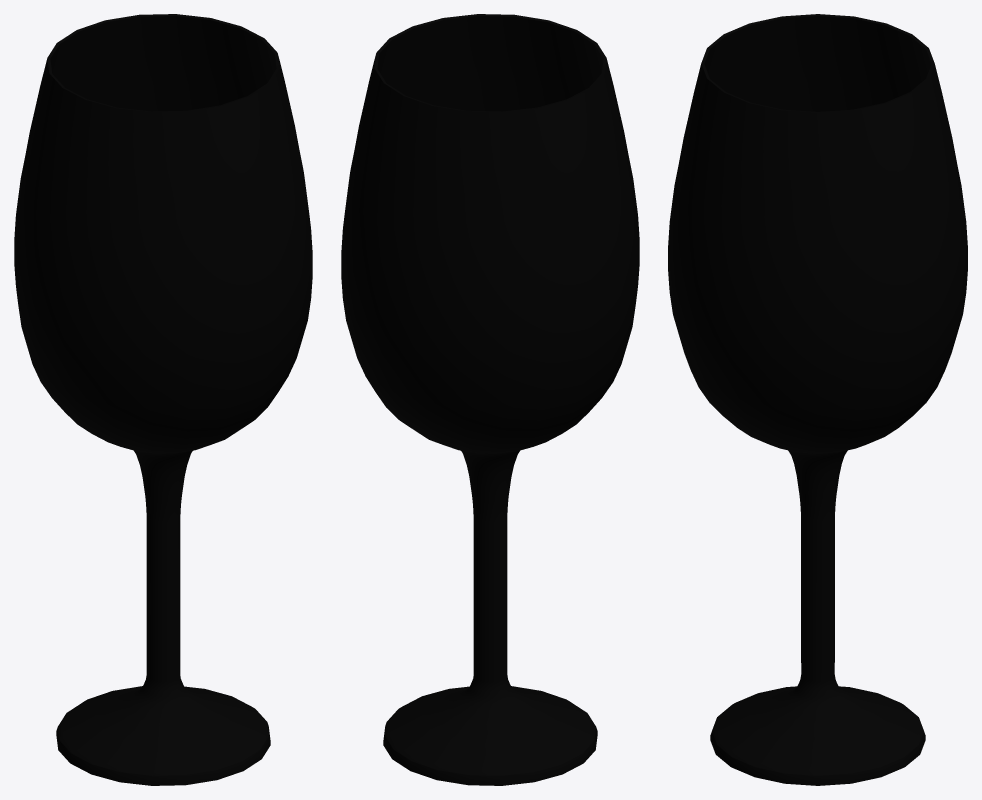
The picture shows the model from 3 angles, left to right: view 1: azimuth 30°, elevation 25°; view 2: azimuth 150°, elevation 25°; view 3: azimuth 270°, elevation 25°; orthographic projection.
Visible parts, largest first — view 1: WineGlasses_LP; view 2: WineGlasses_LP; view 3: WineGlasses_LP.
Part boxes in pixels (<box>): WineGlasses_LP: <box>14,14,312,785</box>; WineGlasses_LP: <box>341,14,639,785</box>; WineGlasses_LP: <box>668,14,967,785</box>.
Size of the model in its own units: 8.5 by 21.18 by 8.5.
Materials: 1 (1 with a texture image).
